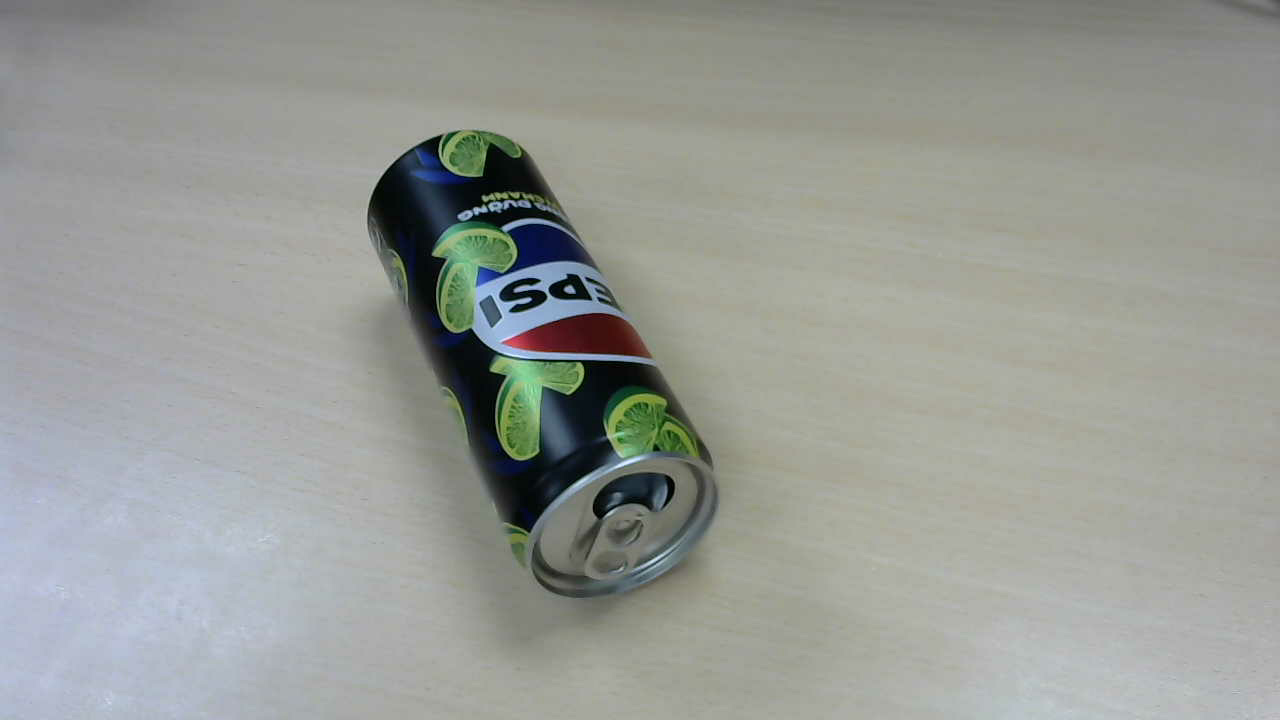Pepsi: (372, 135, 725, 603)
